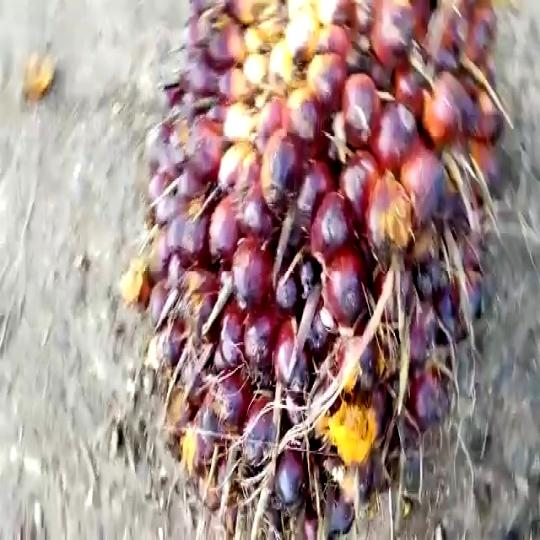kurang masak: (124, 0, 509, 540)
